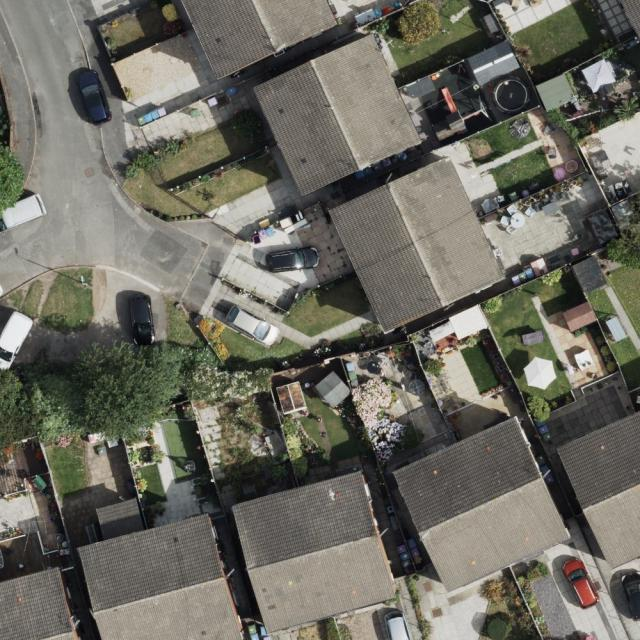roof: (328, 156, 506, 334), (393, 416, 569, 593), (252, 33, 423, 197), (233, 471, 396, 634), (77, 499, 243, 640), (557, 410, 640, 571), (181, 0, 340, 80), (0, 567, 73, 639)
